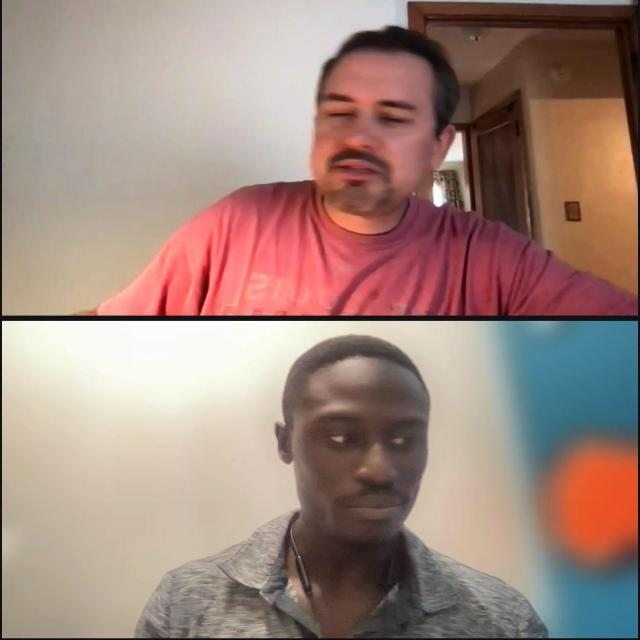face: (273, 353, 429, 545), (312, 51, 452, 218)
